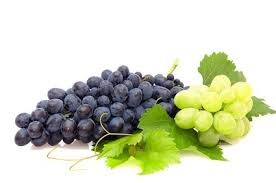Black grapes: (6, 67, 176, 147)
Green grapes: (169, 74, 260, 149)
